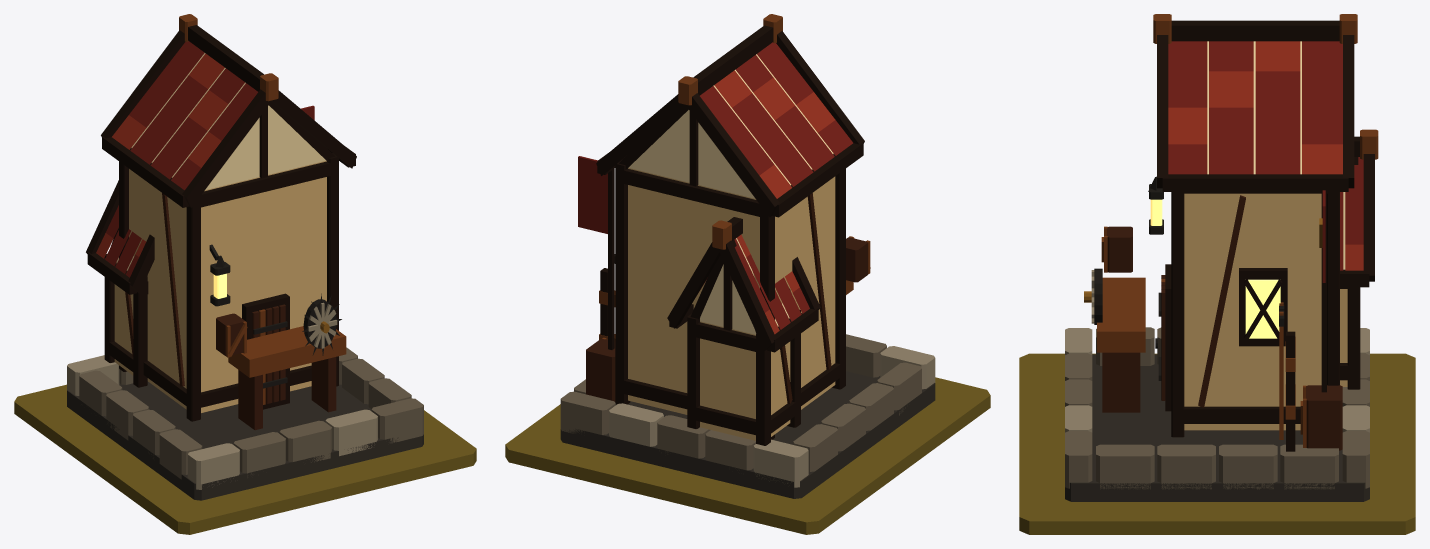
File: workshop_t6.glb
3 renders of one model, left to right at view 1: azimuth 30°, elevation 25°; view 2: azimuth 150°, elevation 25°; view 3: azimuth 270°, elevation 25°, orthographic. The views are drawn at different scales.
Parts seen in each view (by area): view 1: MMR | workshop | T06 Architecture.001, MMR | workshop | Tier 06 Ground.001; view 2: MMR | workshop | T06 Architecture.001, MMR | workshop | Tier 06 Ground.001, MMR | workshop | T06 Banner Flag 1.001; view 3: MMR | workshop | T06 Architecture.001, MMR | workshop | Tier 06 Ground.001.
Part boxes in pixels (left/top/right/bottom): MMR | workshop | T06 Architecture.001: left=67, top=14, right=423, bottom=500; MMR | workshop | Tier 06 Ground.001: left=14, top=384, right=476, bottom=534; MMR | workshop | T06 Architecture.001: left=560, top=14, right=935, bottom=498; MMR | workshop | Tier 06 Ground.001: left=505, top=377, right=990, bottom=534; MMR | workshop | T06 Banner Flag 1.001: left=578, top=156, right=607, bottom=233; MMR | workshop | T06 Architecture.001: left=1065, top=14, right=1378, bottom=501; MMR | workshop | Tier 06 Ground.001: left=1019, top=353, right=1415, bottom=534.
Size of the model in its own units: 1.3 by 1.57 by 1.3.
Materials: 2 (1 with a texture image).
